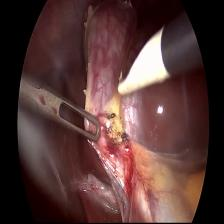Grasper: (21, 75, 104, 146)
Hook: (115, 27, 173, 98)
